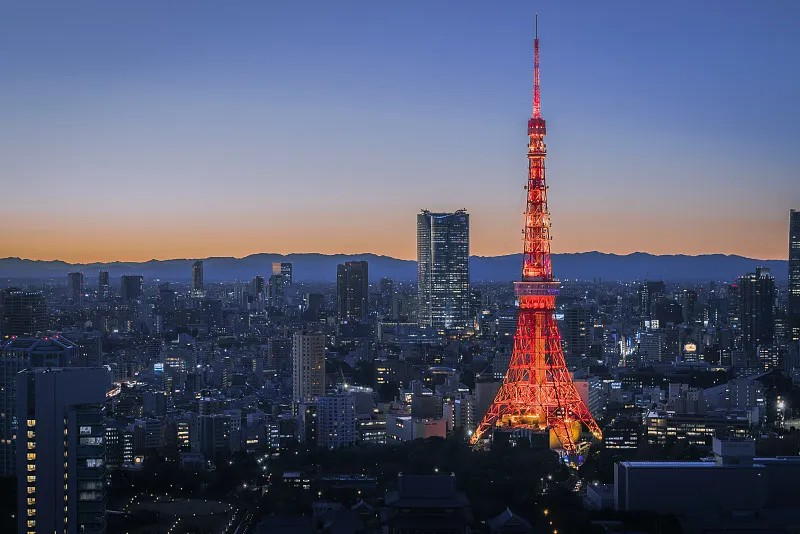Tokyo: (467, 11, 602, 459)
